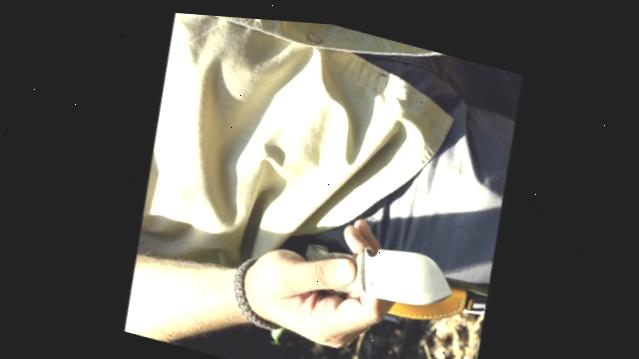pocket-knife: (277, 193, 465, 359)
